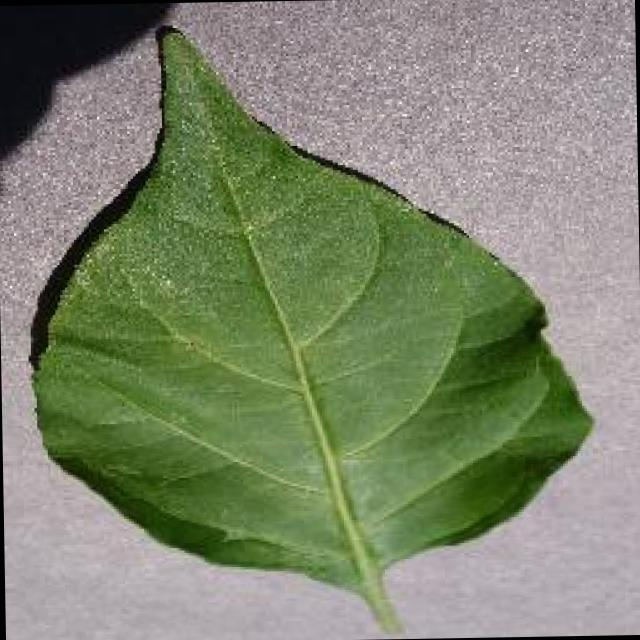Chilli_Healthy: (20, 15, 598, 637)
